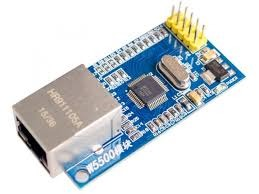Ethernet-W5500: (8, 4, 258, 194)
